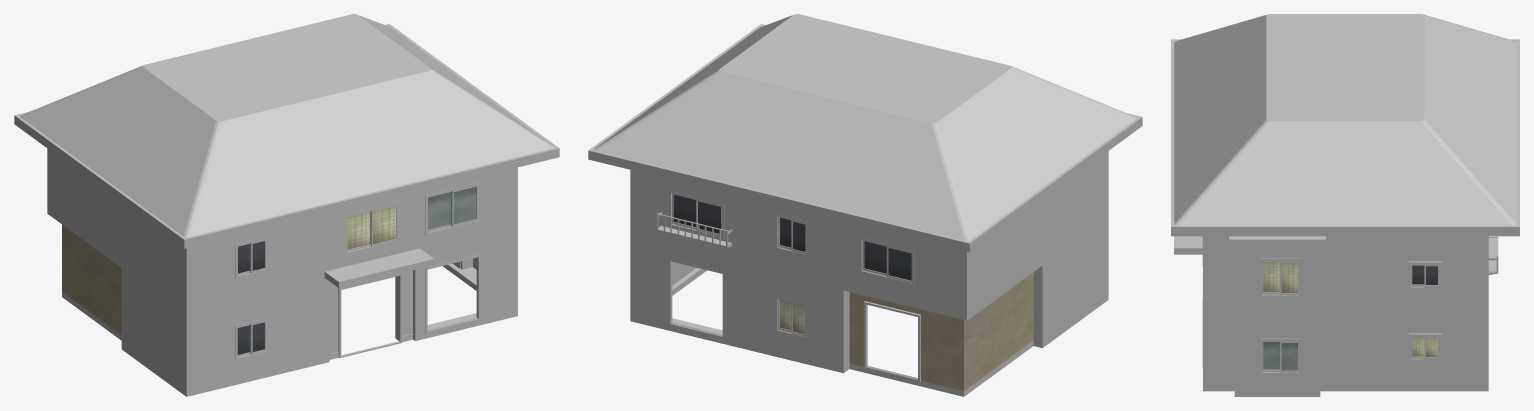
Rendered from JpHouse_20a.fbx.
3 views of the same model, side by side, from view 1: azimuth 30°, elevation 25°; view 2: azimuth 150°, elevation 25°; view 3: azimuth 270°, elevation 25° (orthographic). The views are drawn at different scales.
Visible parts, largest first — view 1: JpHouse_20a; view 2: JpHouse_20a; view 3: JpHouse_20a.
Boxes of the visible parts, x1=… form: JpHouse_20a: x1=14, y1=14, x2=559, y2=396; JpHouse_20a: x1=588, y1=14, x2=1142, y2=396; JpHouse_20a: x1=1171, y1=14, x2=1519, y2=396.
Size of the model in its own units: 14 by 8.45 by 11.
